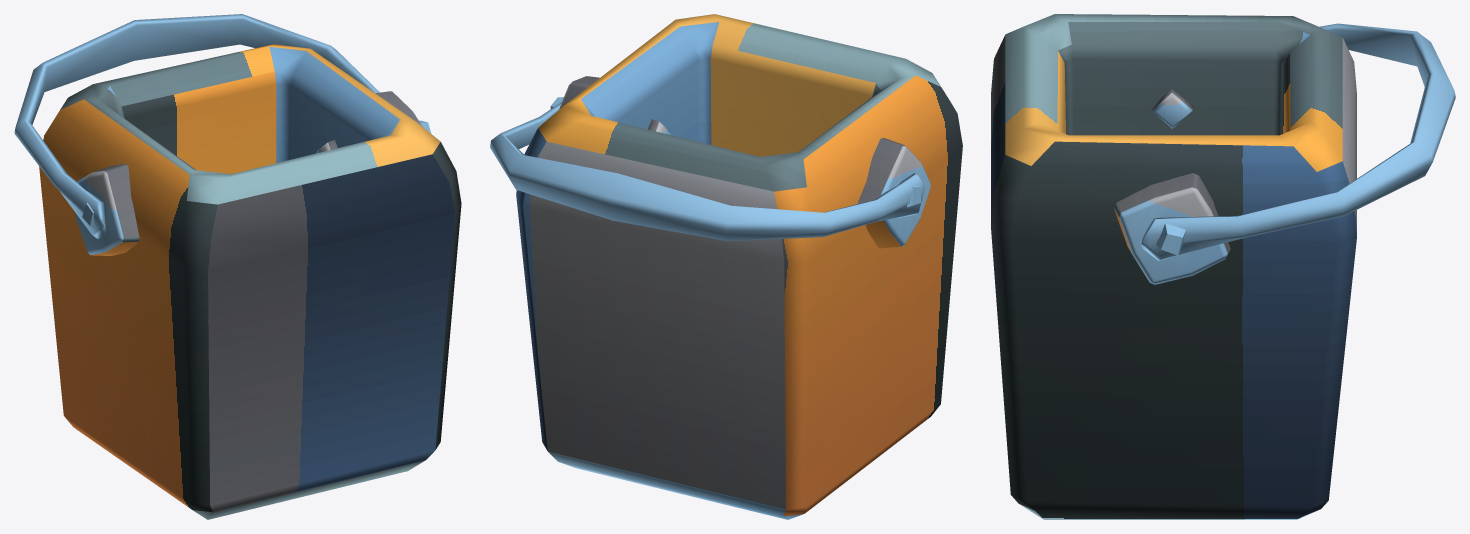
File: Prop_Bucket.glb
3 renders of one model, left to right at view 1: azimuth 30°, elevation 25°; view 2: azimuth 150°, elevation 25°; view 3: azimuth 270°, elevation 25°, orthographic. The views are drawn at different scales.
Visible parts, largest first — view 1: Prop_Bucket; view 2: Prop_Bucket; view 3: Prop_Bucket.
Boxes of the visible parts, x1,y1,x2,y2 form: Prop_Bucket: (14,14,461,519); Prop_Bucket: (490,14,962,519); Prop_Bucket: (991,14,1455,519).
Size of the model in its own units: 3.36 by 3.27 by 3.51.
Materials: 1 (1 with a texture image).
